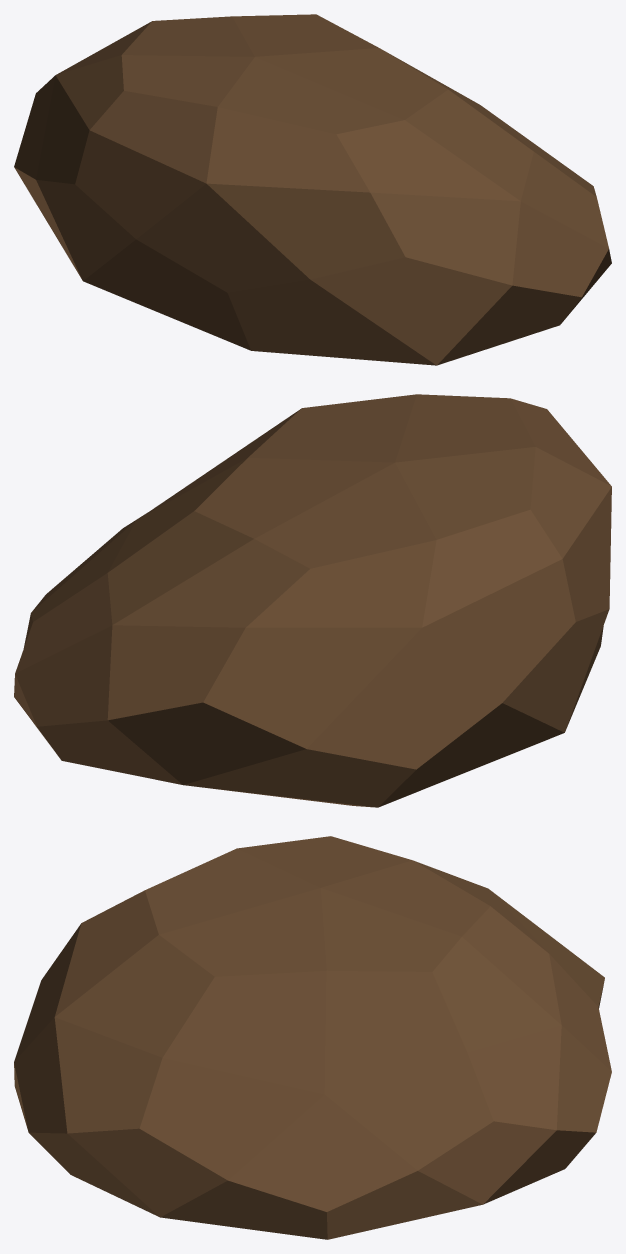
Rendered from Rock_4_Light_Brown.fbx.
The picture shows the model from 3 angles, top to bottom: view 1: azimuth 30°, elevation 25°; view 2: azimuth 150°, elevation 25°; view 3: azimuth 270°, elevation 25°; orthographic projection. The views are drawn at different scales.
Visible parts, largest first — view 1: Rock_4_Light_Brown; view 2: Rock_4_Light_Brown; view 3: Rock_4_Light_Brown.
Boxes of the visible parts, box(x1,y1,x2,y2) form: Rock_4_Light_Brown: box(14, 14, 611, 365); Rock_4_Light_Brown: box(14, 394, 611, 807); Rock_4_Light_Brown: box(14, 836, 611, 1239).
Bounding box in the file's own units: 344 × 168 × 391.
